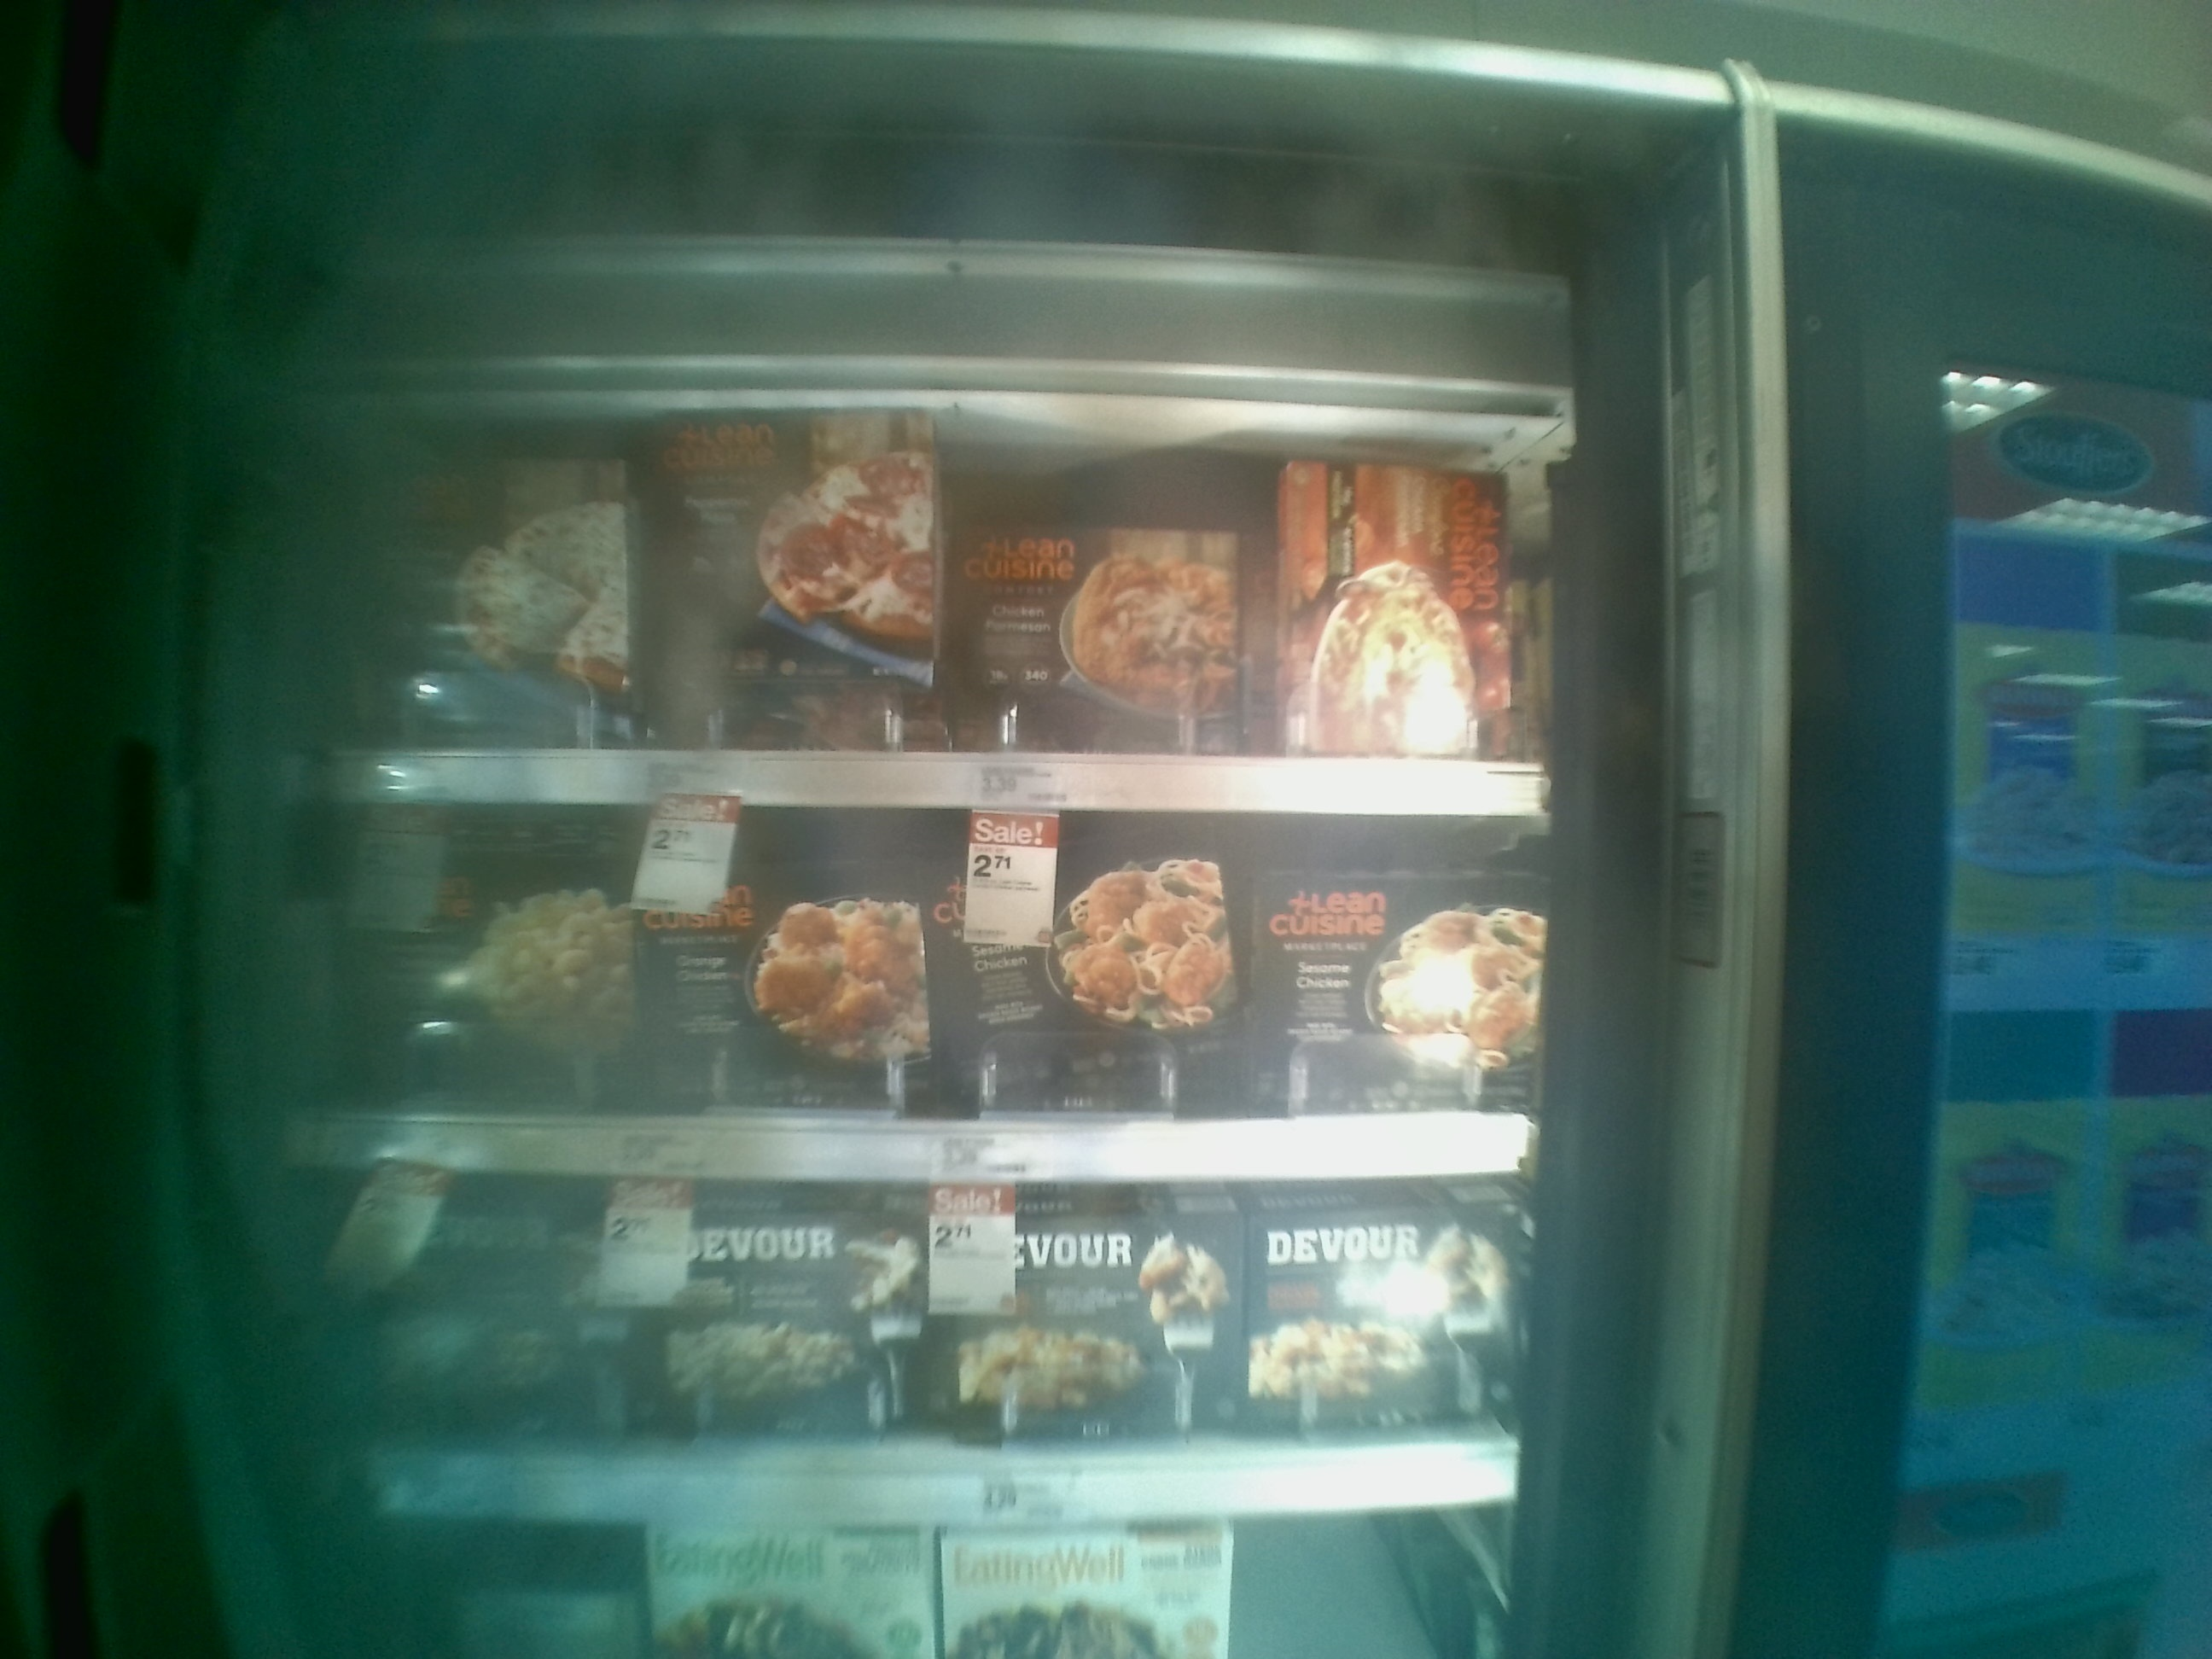shelf: (294, 788, 1524, 1168)
